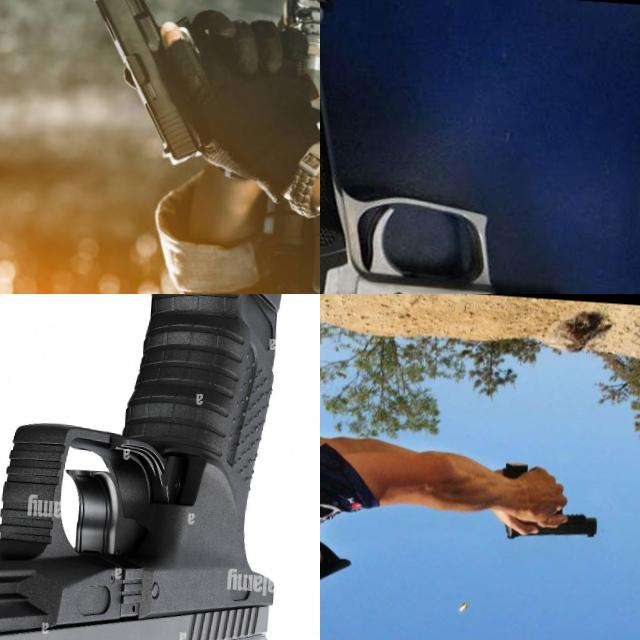handgun: (0, 294, 300, 640), (320, 0, 640, 294), (69, 0, 320, 176), (493, 458, 601, 546)
